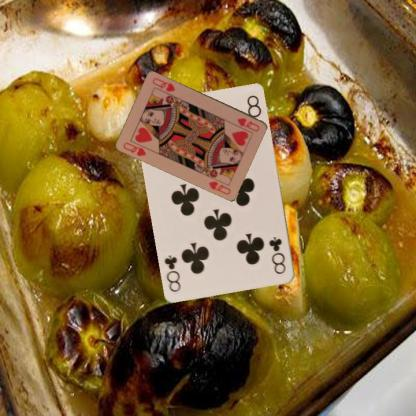8c: (266, 234, 288, 276)
Qh: (121, 140, 148, 157), (235, 115, 260, 133)
